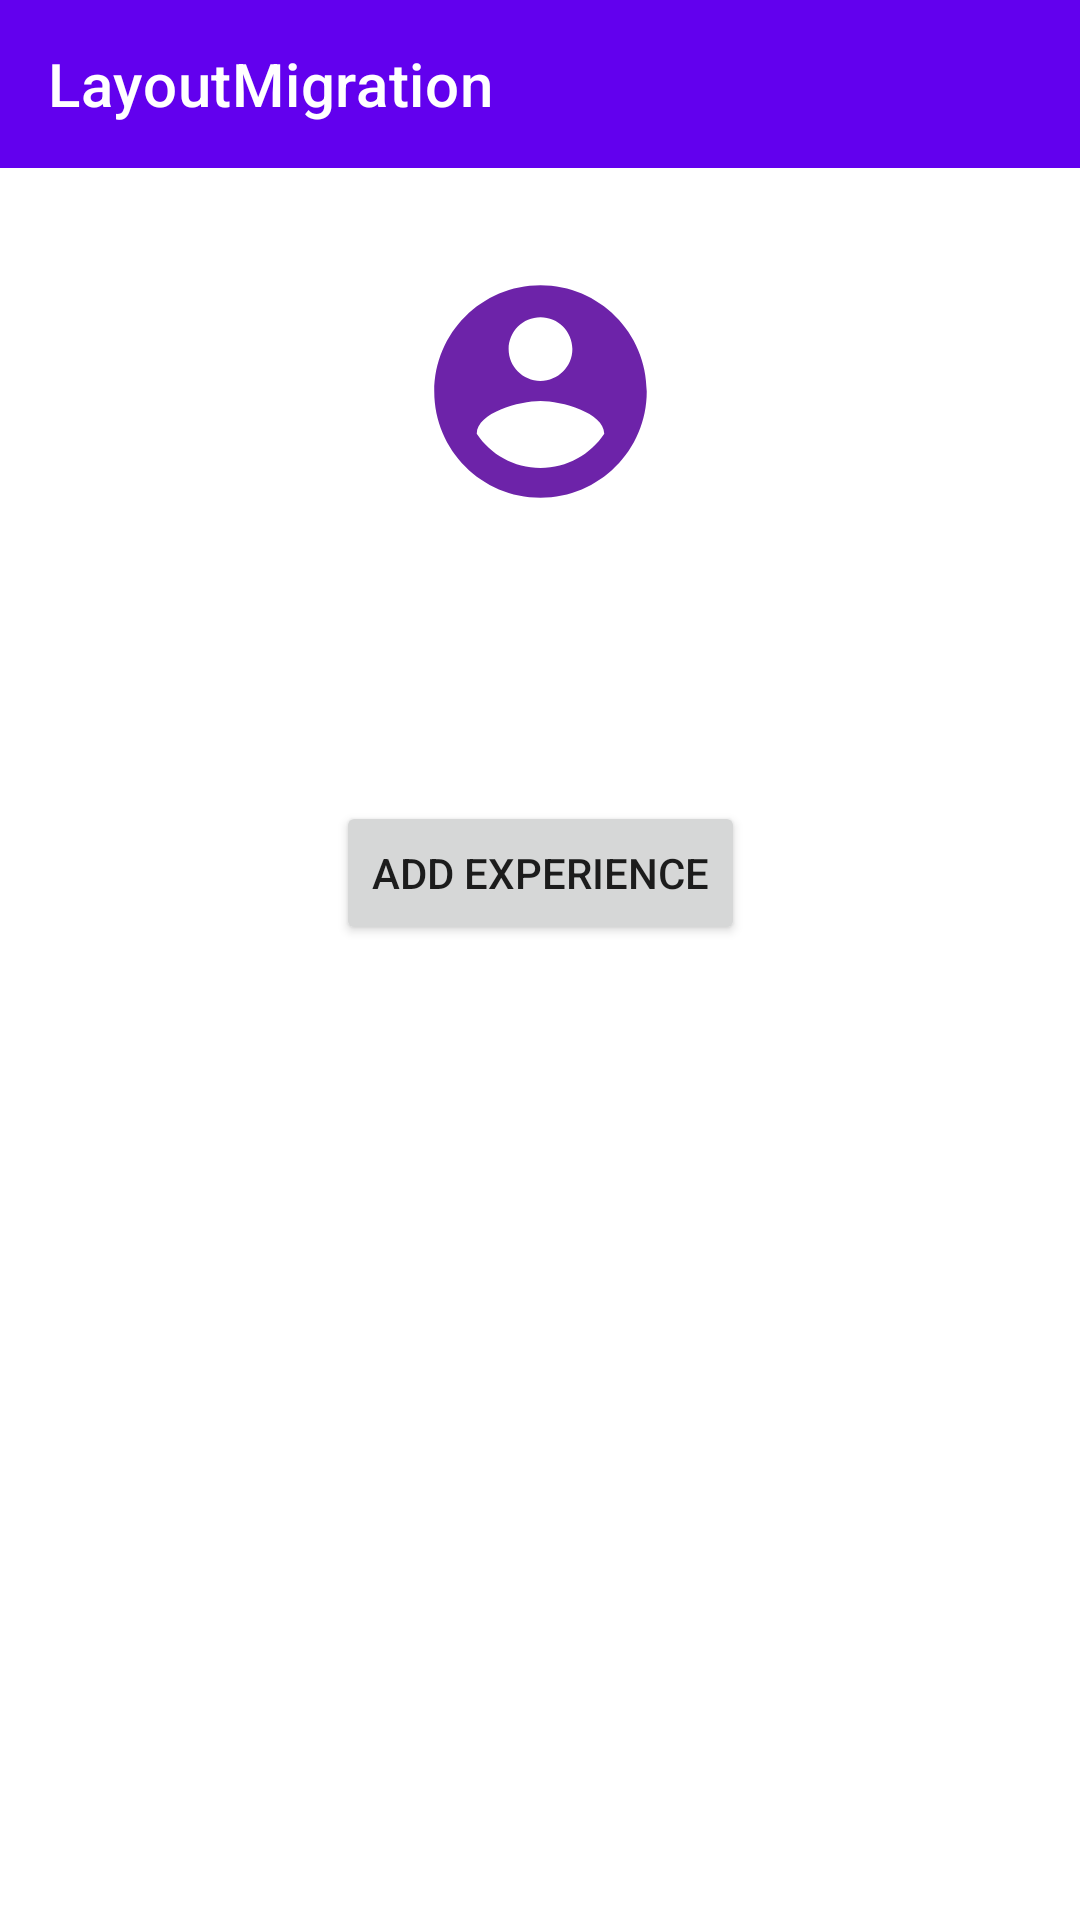

Icon bounding boxes for this 1080px×1920px phone screenshot, format (x1, y1, x2, y2):
user: (434, 285, 647, 498)
